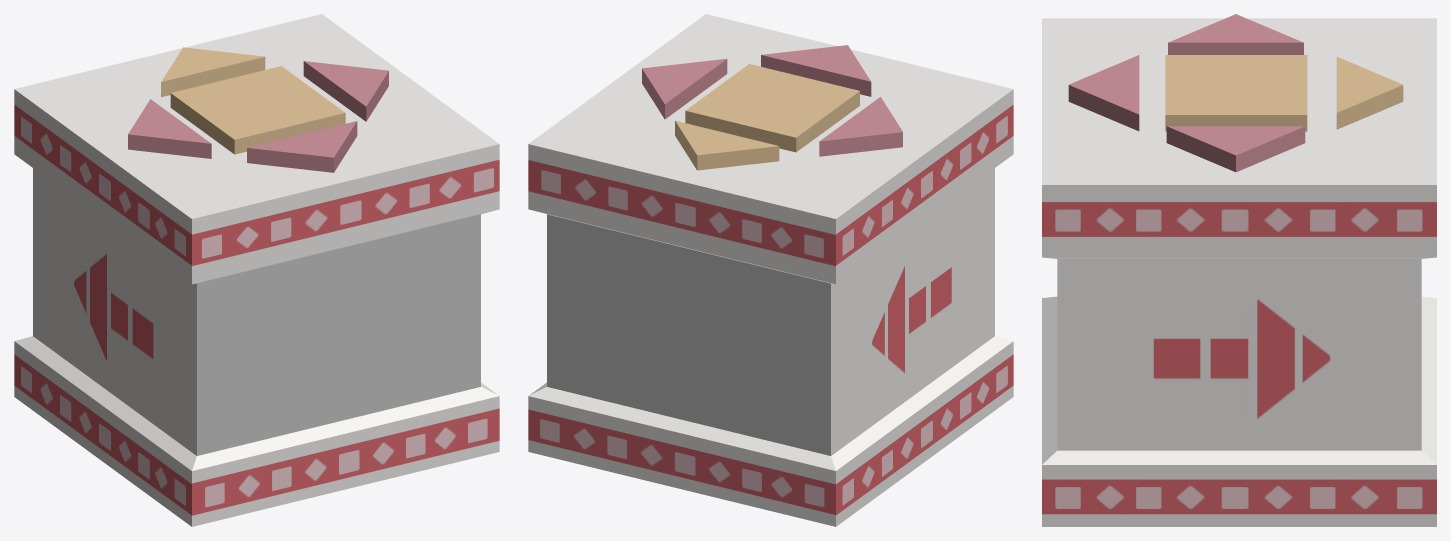
Rendered from arrow.fbx.
3 renders of one model, left to right at view 1: azimuth 30°, elevation 25°; view 2: azimuth 150°, elevation 25°; view 3: azimuth 270°, elevation 25°, orthographic. The views are drawn at different scales.
Visible parts, largest first — view 1: polySurface145; view 2: polySurface145; view 3: polySurface145.
Part boxes in pixels (<box>): polySurface145: <box>14,14,499,526</box>; polySurface145: <box>528,14,1013,526</box>; polySurface145: <box>1042,14,1436,526</box>.
Bounding box in the file's own units: 2 × 2.01 × 2.
